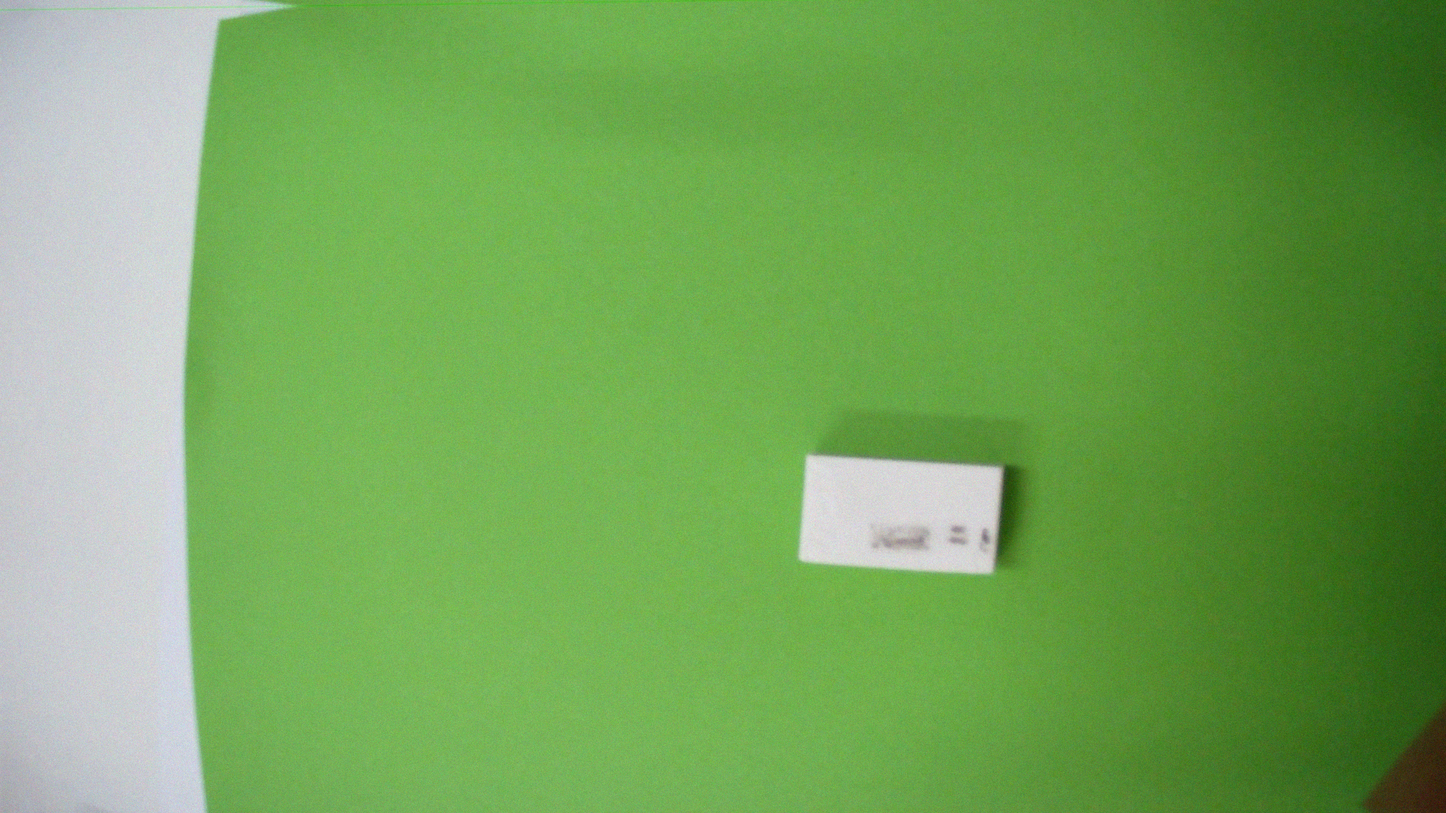gom: (796, 440, 1008, 589)
